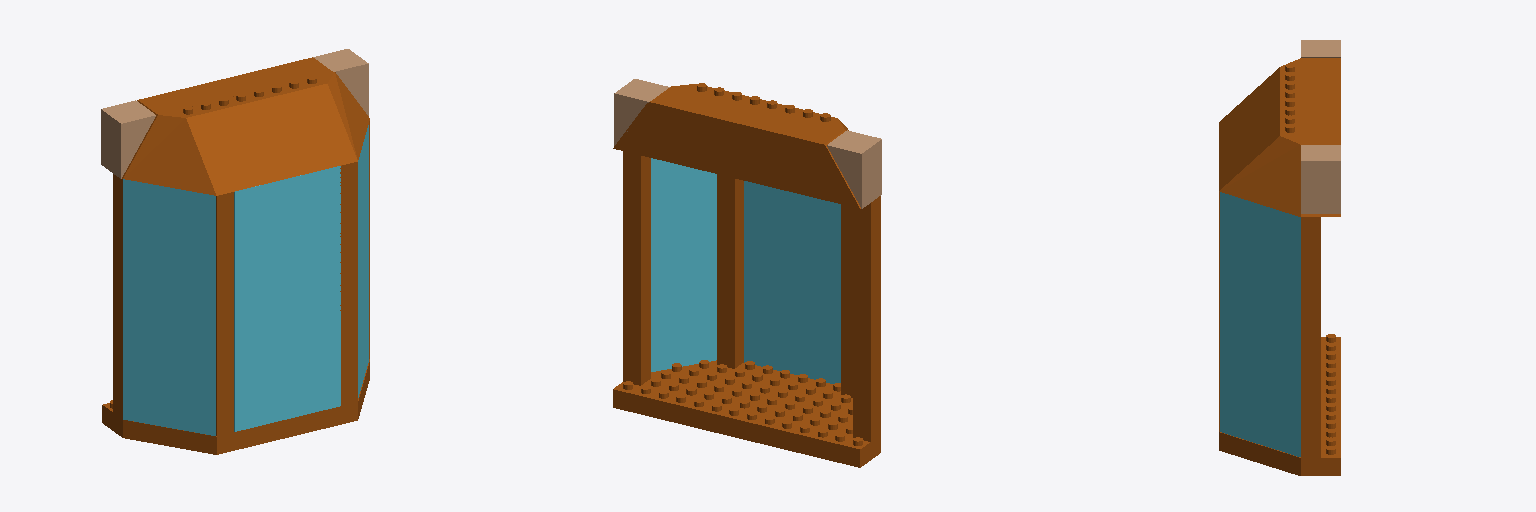
3 renders of one model, left to right at view 1: azimuth 30°, elevation 25°; view 2: azimuth 150°, elevation 25°; view 3: azimuth 270°, elevation 25°, orthographic.
Visible parts, largest first — view 1: Box006, Box009, Box010, Box008, Box011, Box007, Cylinder018; view 2: Box006, Box009, Box011, Cylinder015, Box008, Box007, Cylinder018; view 3: Box006, Box011, Box007, Cylinder015, Box008, Cylinder018.
Part boxes in pixels (x1,y1,x2,y2): Box006: (102, 57, 369, 454); Box009: (234, 166, 340, 431); Box010: (123, 179, 215, 435); Box008: (101, 100, 155, 178); Box011: (358, 125, 368, 397); Box007: (313, 49, 368, 115); Cylinder018: (183, 76, 316, 114); Box006: (613, 84, 880, 467); Box009: (744, 181, 840, 383); Box011: (651, 158, 716, 371); Cylinder015: (623, 360, 862, 445); Box008: (827, 130, 881, 208); Box007: (614, 79, 669, 145); Cylinder018: (697, 83, 830, 121); Box006: (1219, 58, 1340, 475); Box011: (1220, 192, 1300, 456); Box007: (1301, 145, 1340, 213); Cylinder015: (1326, 334, 1335, 454); Box008: (1301, 40, 1340, 57); Cylinder018: (1285, 64, 1294, 132).
Size of the model in its own units: 14.09 by 17.25 by 6.01.
3 materials, 3 textured.